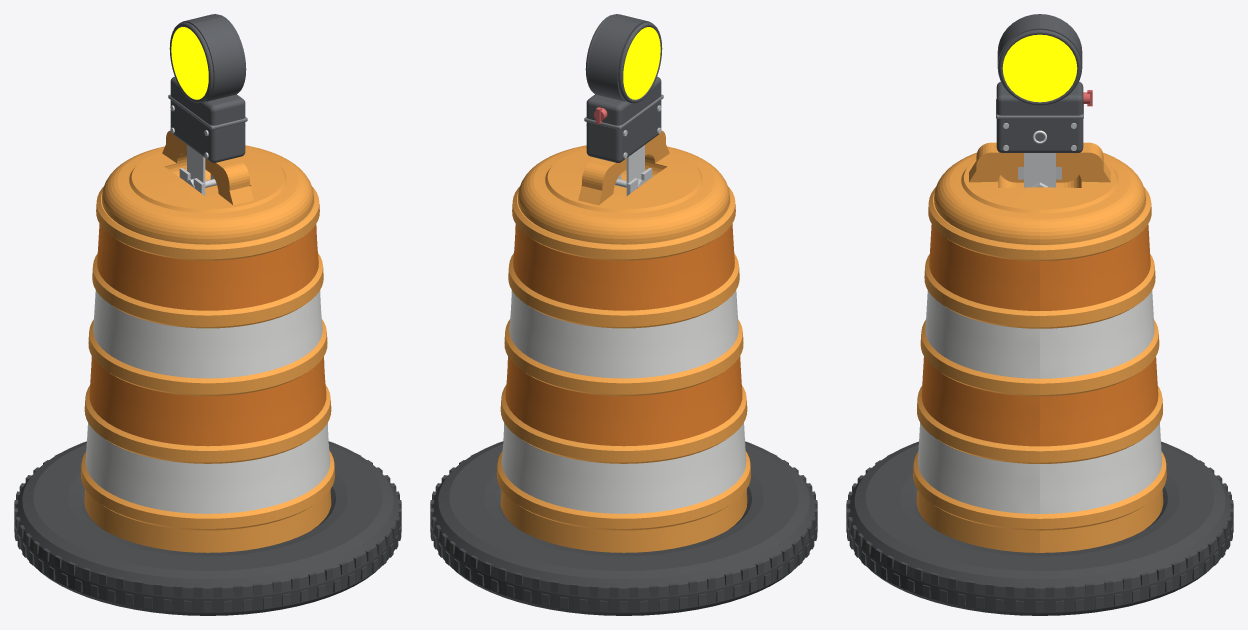
File: Traffic_Drum_Channelizer.glb
The picture shows the model from 3 angles, left to right: view 1: azimuth 30°, elevation 25°; view 2: azimuth 150°, elevation 25°; view 3: azimuth 270°, elevation 25°; orthographic projection.
Parts seen in each view (by area): view 1: ballast_ring, moulded_ribs, drum_body, stripe_4_white, stripe_3_orange, stripe_2_white, stripe_1_orange, light_case, lens_head, amber_lens, light_clamp; view 2: ballast_ring, moulded_ribs, drum_body, stripe_4_white, stripe_3_orange, stripe_2_white, stripe_1_orange, light_case, lens_head, amber_lens, light_clamp; view 3: ballast_ring, moulded_ribs, drum_body, stripe_4_white, stripe_3_orange, stripe_2_white, stripe_1_orange, light_case, amber_lens, lens_head, light_clamp.
Part boxes in pixels (box(x1,y1,x2,y2)): ballast_ring: box(14, 441, 401, 615); moulded_ribs: box(81, 186, 334, 530); drum_body: box(84, 130, 331, 552); stripe_4_white: box(85, 422, 330, 513); stripe_3_orange: box(89, 356, 326, 446); stripe_2_white: box(93, 290, 322, 378); stripe_1_orange: box(97, 223, 318, 310); light_case: box(170, 76, 245, 162); lens_head: box(169, 14, 246, 103); amber_lens: box(171, 27, 208, 99); light_clamp: box(187, 145, 214, 195); ballast_ring: box(430, 441, 817, 615); moulded_ribs: box(497, 186, 750, 530); drum_body: box(500, 130, 747, 552); stripe_4_white: box(501, 422, 746, 513); stripe_3_orange: box(505, 356, 742, 446); stripe_2_white: box(509, 290, 738, 378); stripe_1_orange: box(513, 223, 734, 310); light_case: box(586, 76, 661, 162); lens_head: box(585, 14, 662, 103); amber_lens: box(623, 27, 660, 99); light_clamp: box(617, 145, 644, 195); ballast_ring: box(846, 441, 1233, 615); moulded_ribs: box(913, 187, 1166, 530); drum_body: box(916, 142, 1163, 552); stripe_4_white: box(918, 422, 1161, 513); stripe_3_orange: box(921, 357, 1158, 446); stripe_2_white: box(925, 290, 1154, 378); stripe_1_orange: box(929, 224, 1150, 310); light_case: box(996, 81, 1083, 152); amber_lens: box(1002, 34, 1077, 102); lens_head: box(997, 14, 1082, 105); light_clamp: box(1024, 153, 1055, 187).
Bounding box in the file's own units: 0.914 × 1.34 × 0.914.
